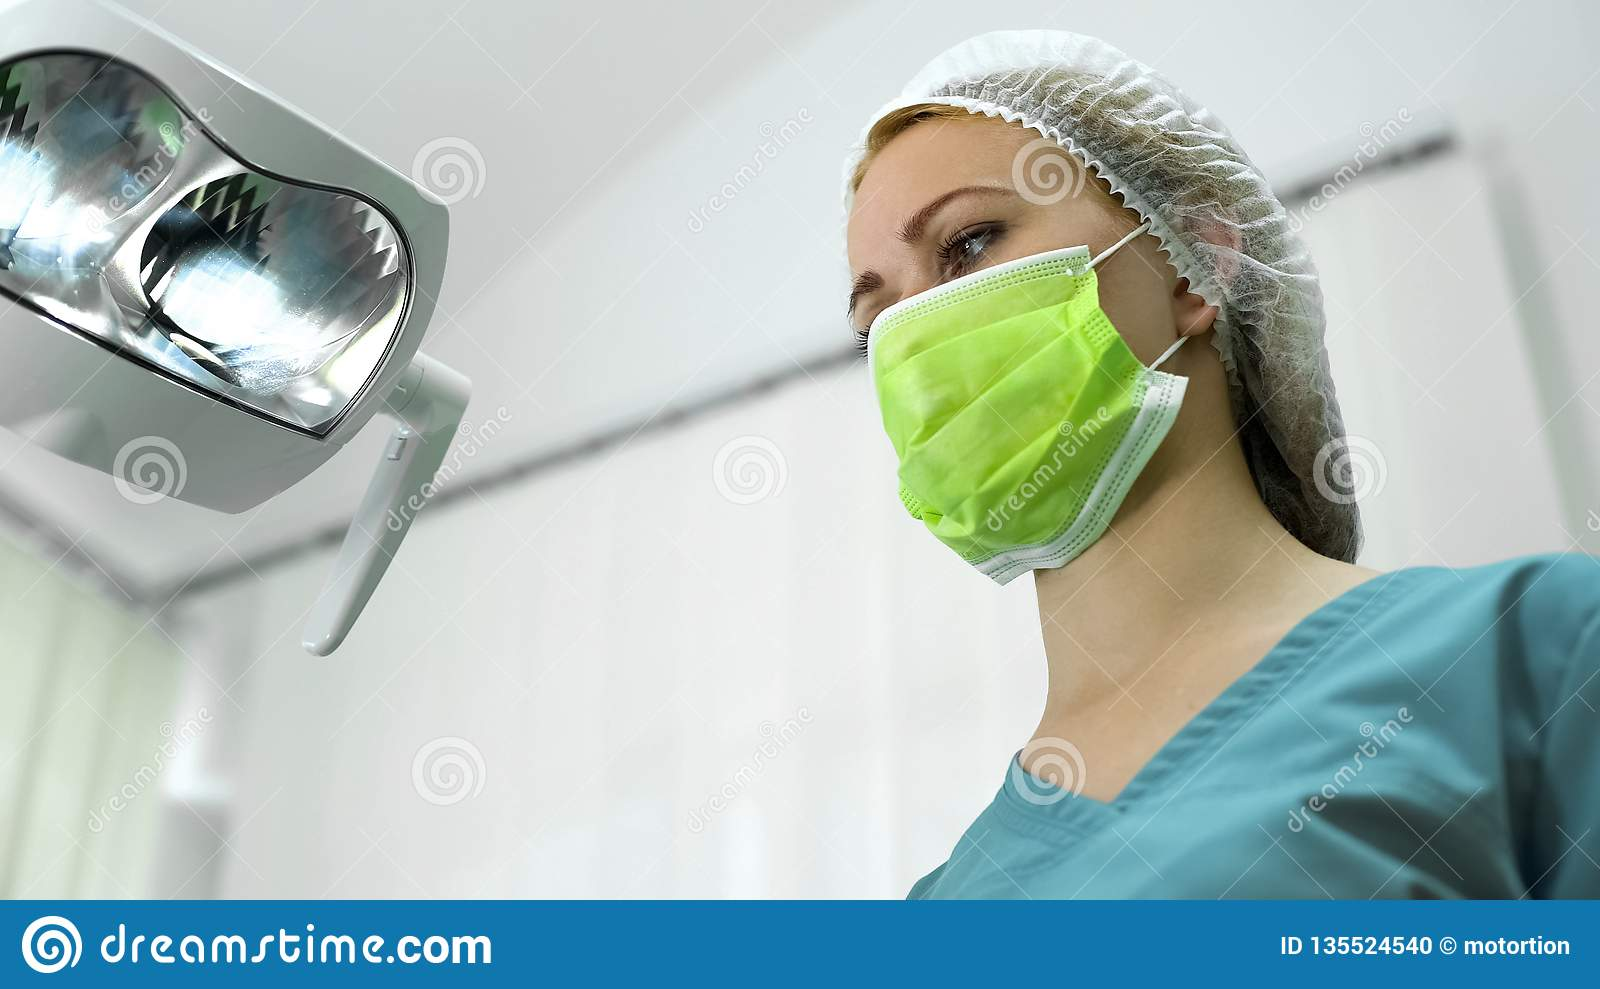mask: (798, 248, 1205, 545)
